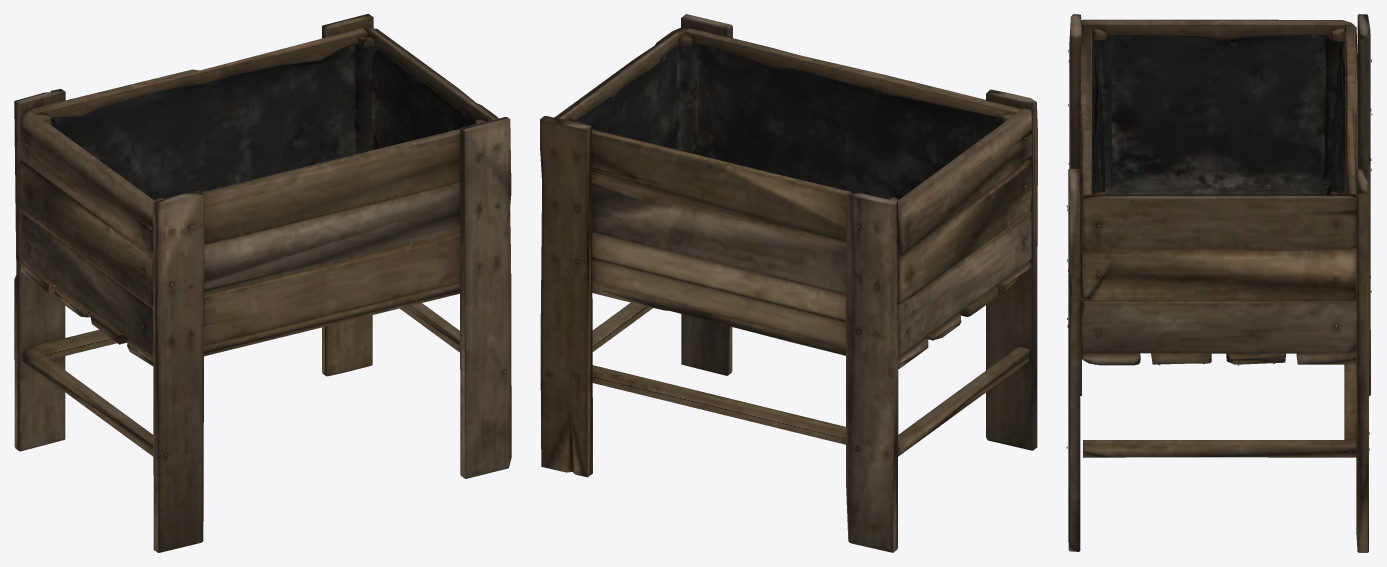
File: planter_box_03.glb
3 views of the same model, side by side, from view 1: azimuth 30°, elevation 25°; view 2: azimuth 150°, elevation 25°; view 3: azimuth 270°, elevation 25° (orthographic). The views are drawn at different scales.
Visible parts, largest first — view 1: planter_box_03; view 2: planter_box_03; view 3: planter_box_03.
Part boxes in pixels (x1,y1,x2,y2): planter_box_03: [14, 14, 511, 552]; planter_box_03: [540, 14, 1037, 552]; planter_box_03: [1066, 14, 1372, 552].
Size of the model in its own units: 0.914 by 0.8551 by 0.6556.
1 material, 1 textured.
